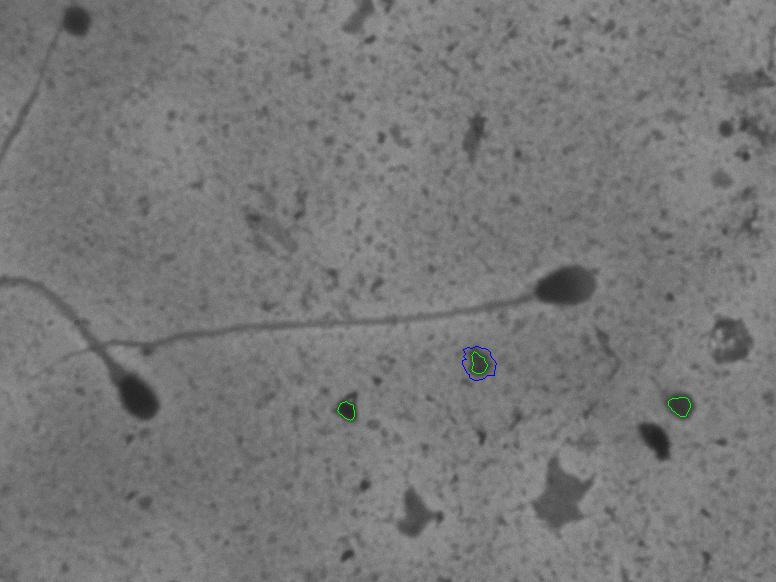Normal: (17, 254, 607, 392)
